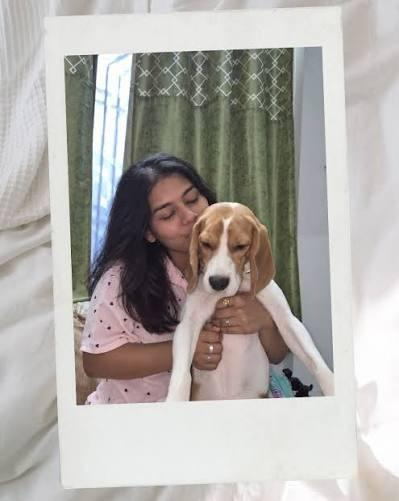adult_dog: (165, 204, 335, 403)
non-dog: (78, 151, 291, 405)
